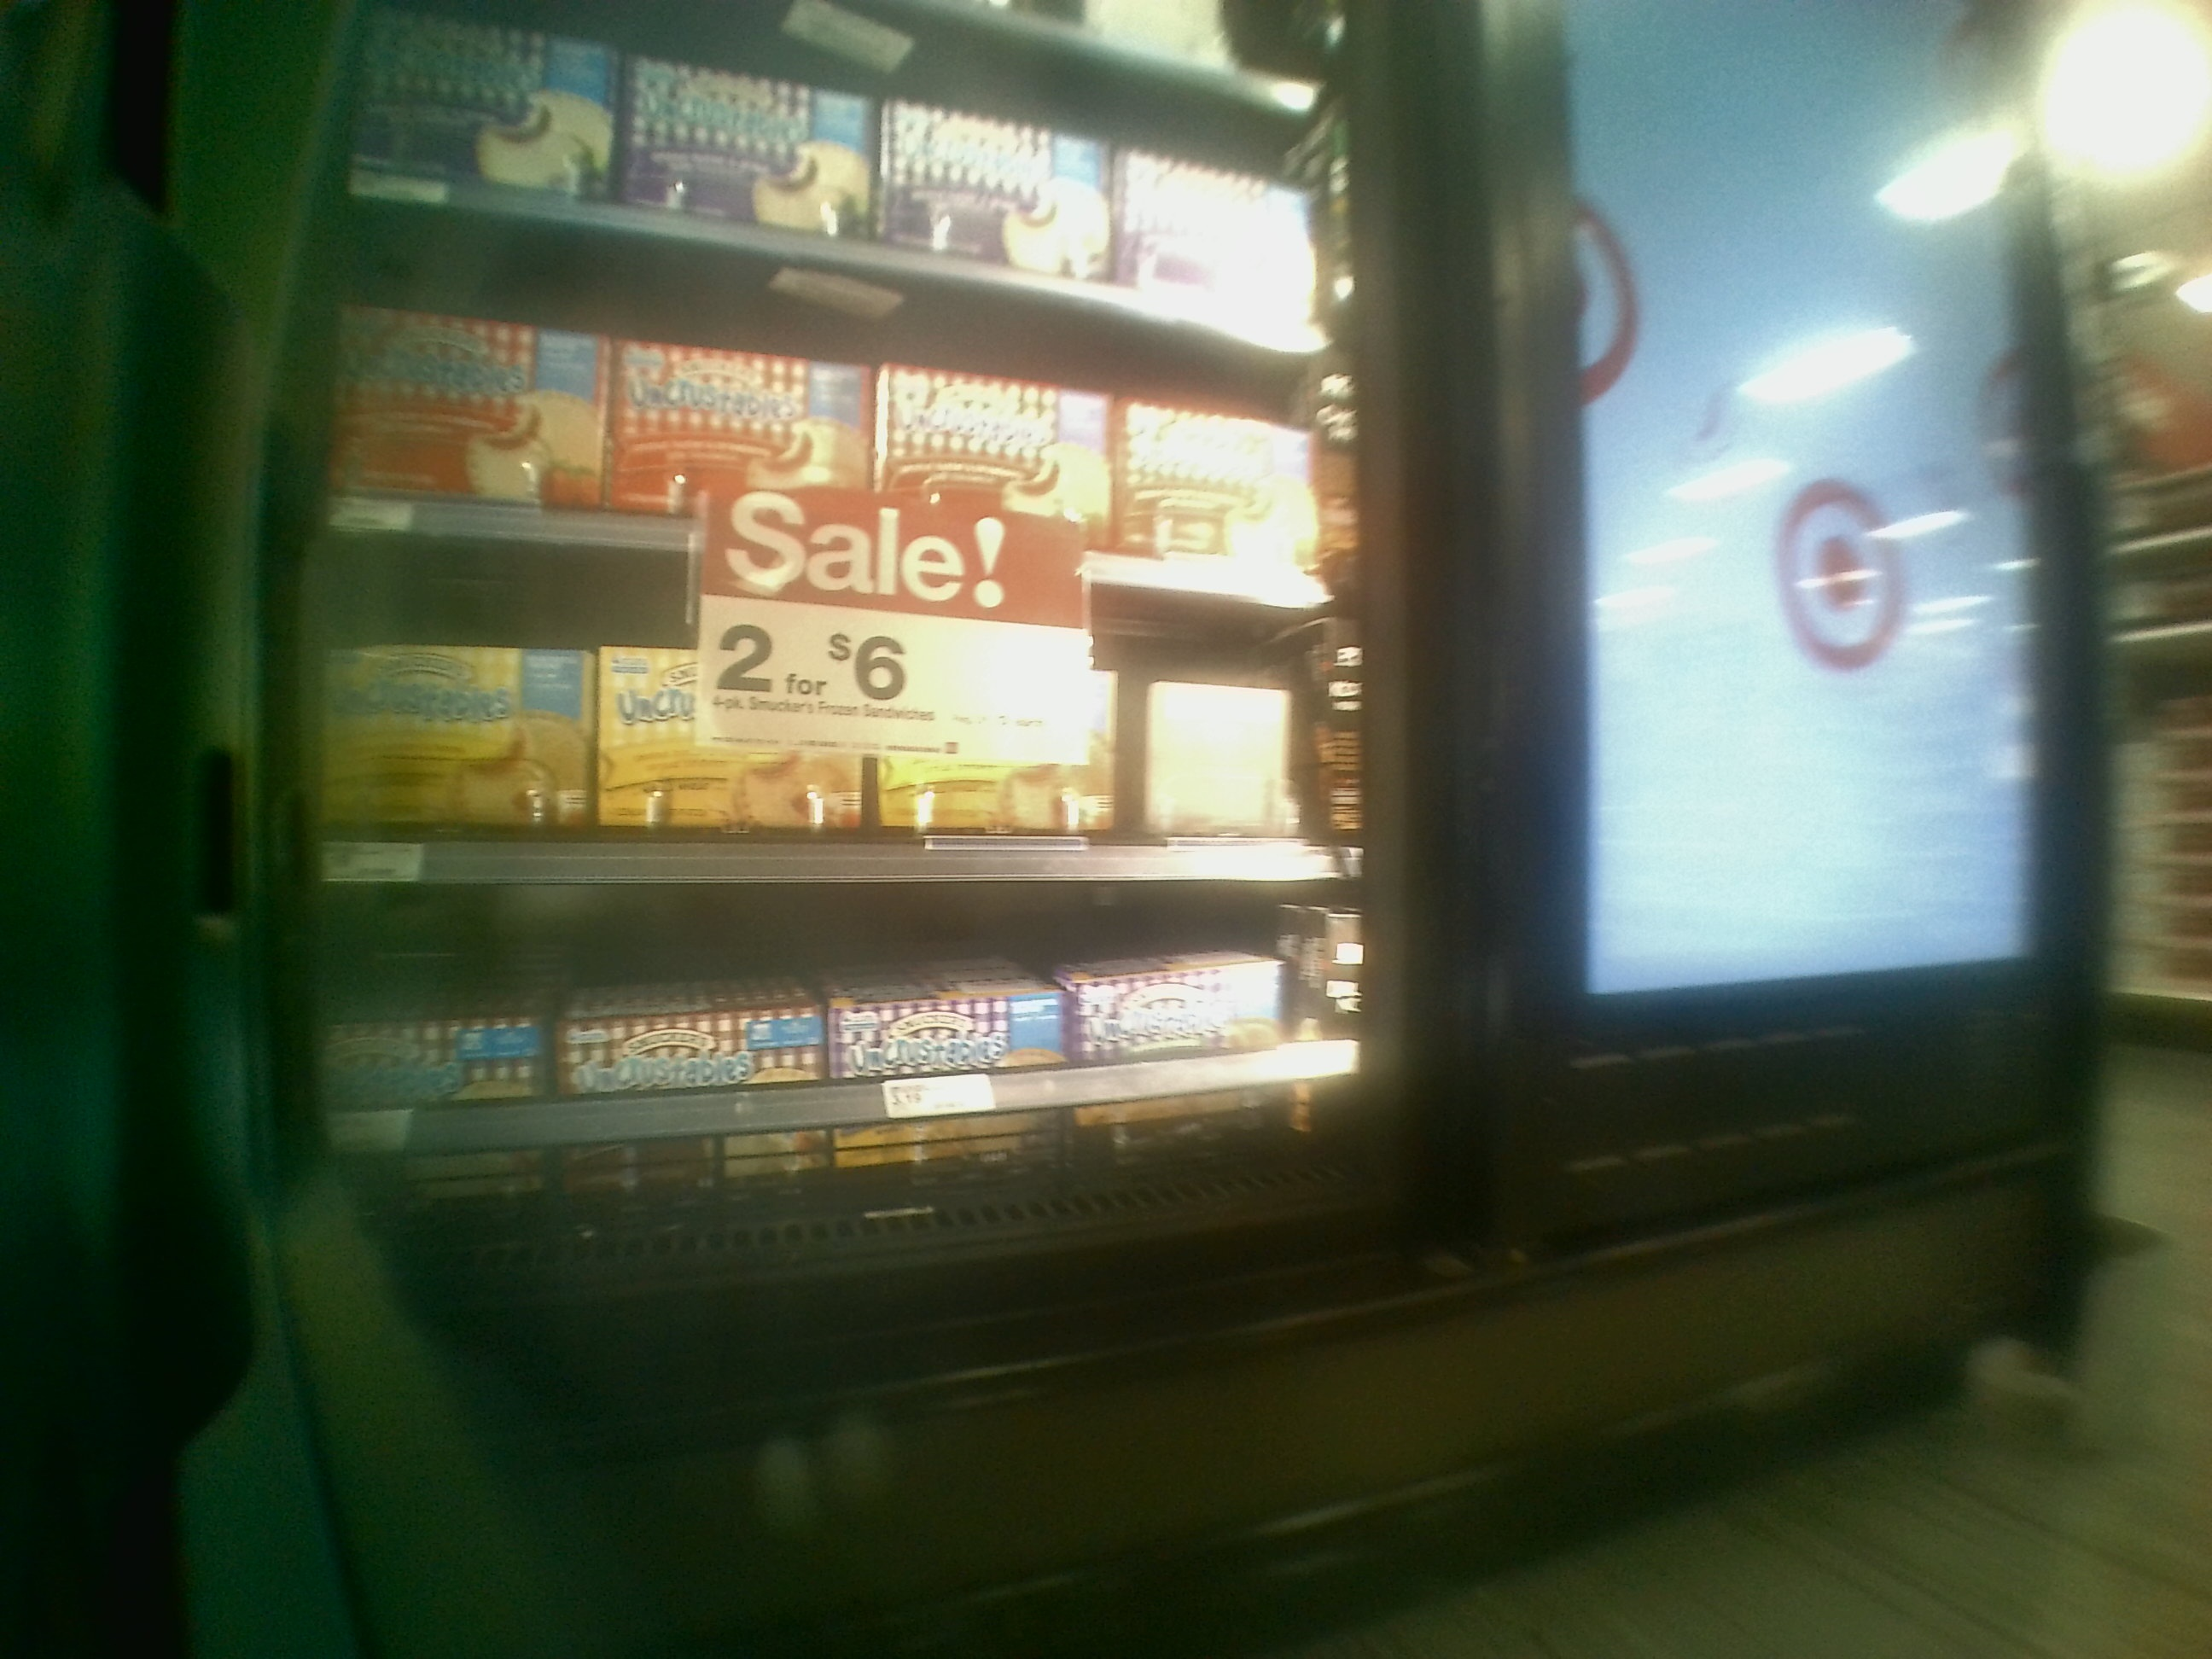shelf: (307, 199, 1332, 598), (294, 547, 1362, 892), (273, 861, 1359, 1121)
